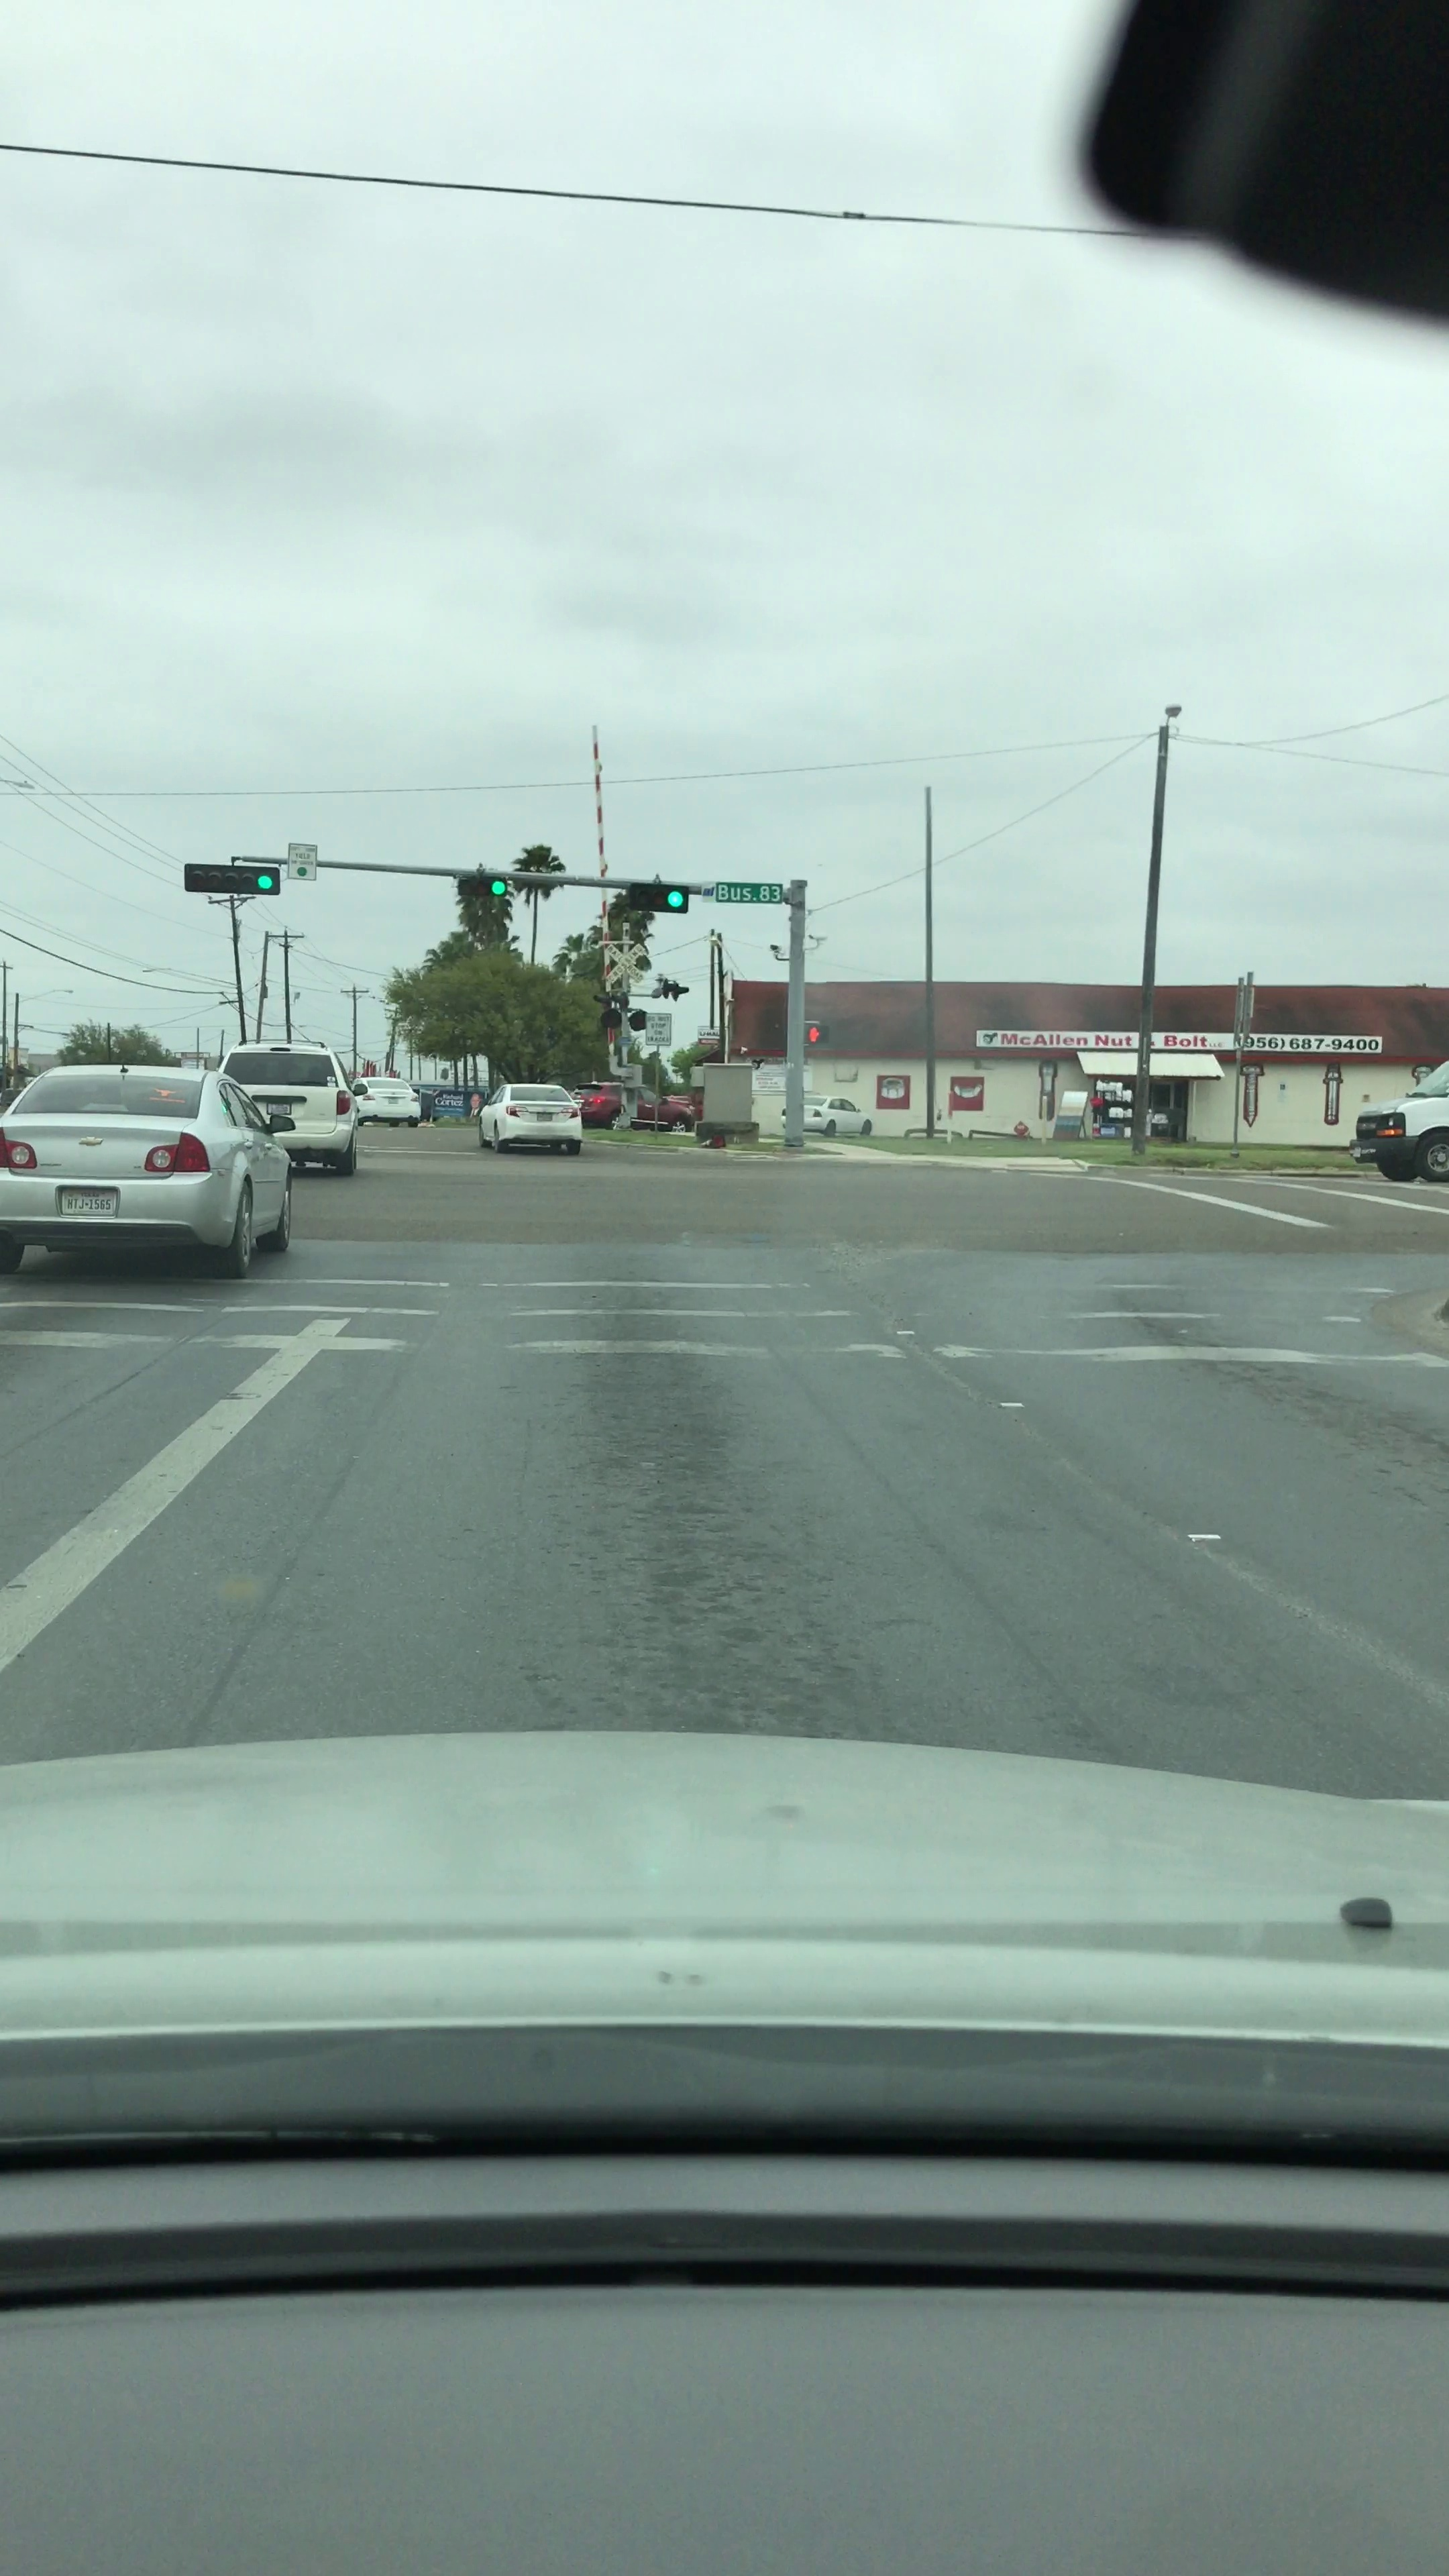blurredLine: (349, 1253, 1415, 1392)
